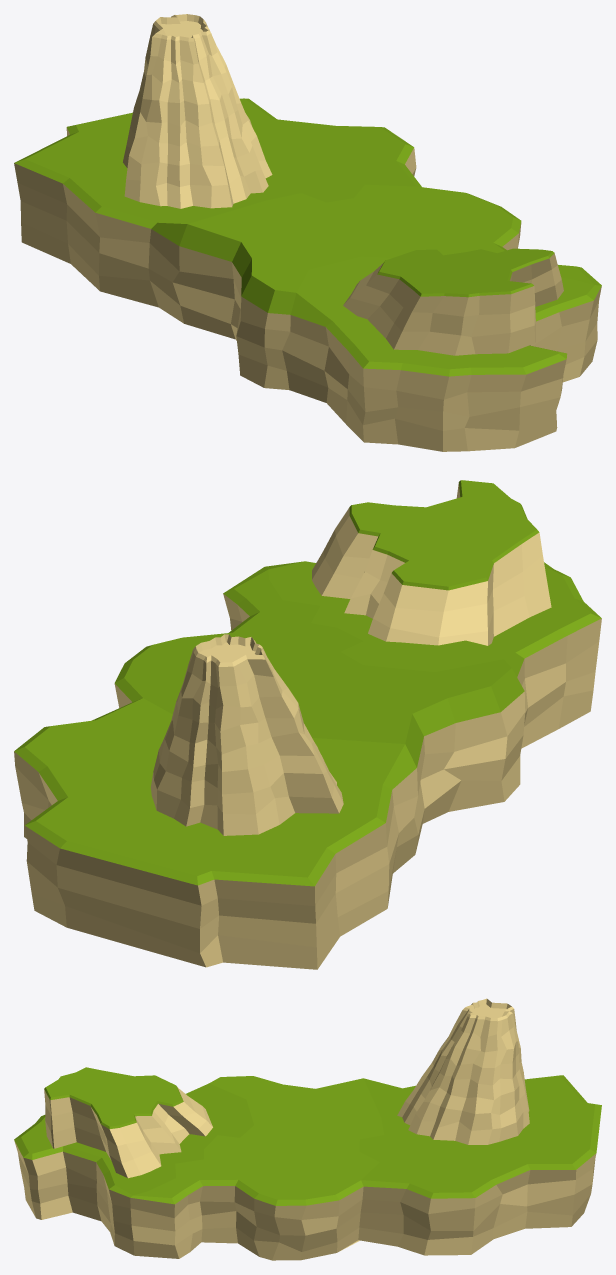
The model's file is Volcano 2.fbx.
The picture shows the model from 3 angles, top to bottom: view 1: azimuth 30°, elevation 25°; view 2: azimuth 150°, elevation 25°; view 3: azimuth 270°, elevation 25°; orthographic projection. The views are drawn at different scales.
Visible parts, largest first — view 1: Plane.002; view 2: Plane.002; view 3: Plane.002.
Boxes of the visible parts, <box> form: Plane.002: <box>14,14,601,451</box>; Plane.002: <box>14,480,601,969</box>; Plane.002: <box>14,998,601,1260</box>.
Bounding box in the file's own units: 2905 × 1886 × 5693.
